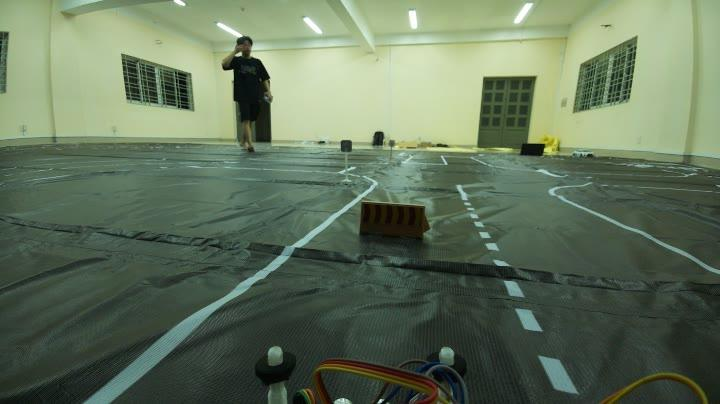roadblock: (352, 190, 439, 256)
